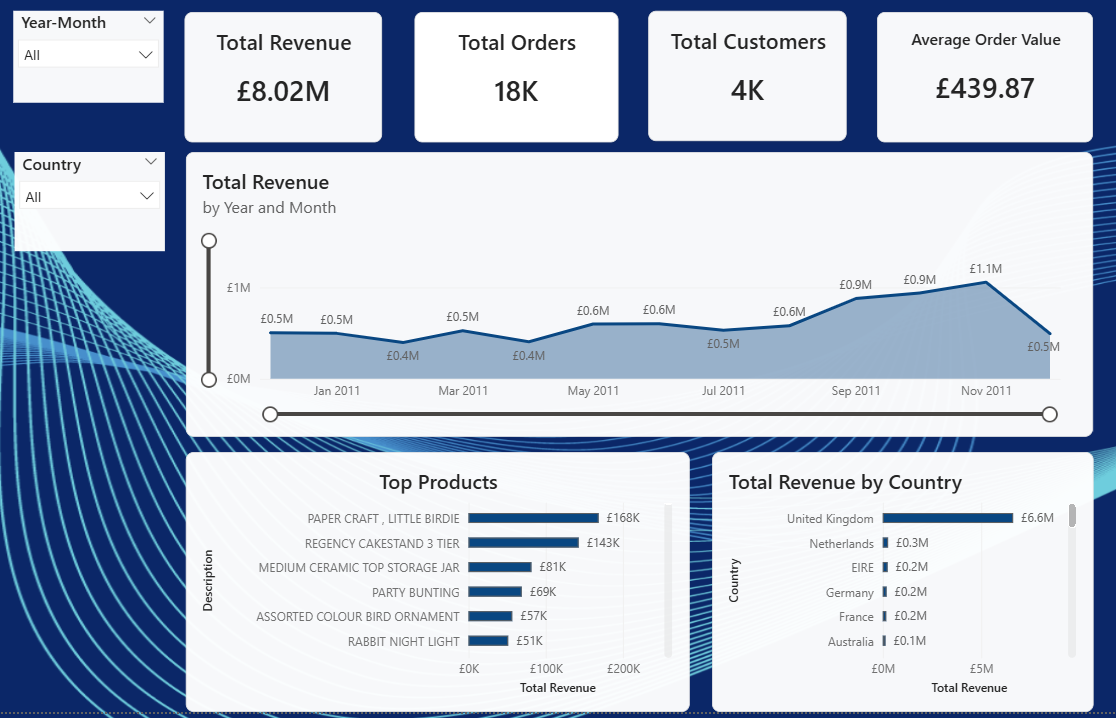

The dashboard page shown, as its layout file describes it:
{"tool":"powerbi","page":{"name":"Executive Sales Overview","canvas":[1280,720],"ordinal":0},"visuals":[{"type":"card","title":"Total Revenue","fields":{"Values":["Online Retail.Total Revenue"]},"box":[192.5,20,197.5,130],"z":0},{"type":"card","title":"Total Orders","fields":{"Values":["Online Retail.Total Orders"]},"box":[422.5,20,203.8,130],"z":1000},{"type":"card","title":"Total Customers","fields":{"Values":["Online Retail.Total Customers"]},"box":[656.2,18.8,198.8,130],"z":2000},{"type":"card","title":"Average Order Value","fields":{"Values":["Online Retail.Average Order Value"]},"box":[885,20,216.2,130],"z":3000},{"type":"areaChart","fields":{"Category":["Online Retail.Date.Variation.Date Hierarchy.Year","Online Retail.Date.Variation.Date Hierarchy.Month"],"Y":["Online Retail.Total Revenue"]},"box":[193.8,160,907.5,285],"z":4000},{"type":"clusteredBarChart","fields":{"Category":["Online Retail.Country"],"Y":["Online Retail.Total Revenue"]},"box":[720,460,381.2,260],"z":5000},{"type":"barChart","title":"Top Products","fields":{"Category":["Online Retail.Description"],"Y":["Online Retail.Total Revenue"]},"box":[193.8,460,503.8,260],"z":6000},{"type":"slicer","fields":{"Values":["Online Retail.Country"]},"box":[22,160.2,150.4,99],"z":7000},{"type":"slicer","fields":{"Values":["Date Table.Year-Month"]},"box":[20.8,18.3,150.4,91.7],"z":8000}]}

Visuals, with their boxes on the page's 1280x720 design canvas (x1, y1, x2, y2). These are canvas units, not pixel positions in the 1116x718 screenshot, which may show the page scaled, cropped or inside an application window:
"Total Revenue" card: locate(192, 20, 390, 150)
"Total Orders" card: locate(422, 20, 626, 150)
"Total Customers" card: locate(656, 19, 855, 149)
"Average Order Value" card: locate(885, 20, 1101, 150)
areaChart - Online Retail.Date.Variation.Date Hierarchy.Year x Online Retail.Date.Variation.Date Hierarchy.Month: locate(194, 160, 1101, 445)
clusteredBarChart - Online Retail.Country x Online Retail.Total Revenue: locate(720, 460, 1101, 720)
"Top Products" barChart: locate(194, 460, 698, 720)
slicer - Online Retail.Country: locate(22, 160, 172, 259)
slicer - Date Table.Year-Month: locate(21, 18, 171, 110)
